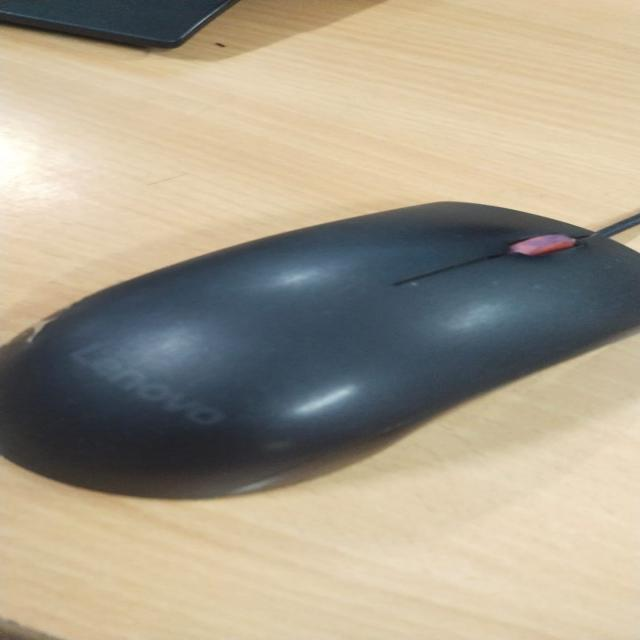Mouse: (72, 177, 640, 508)
